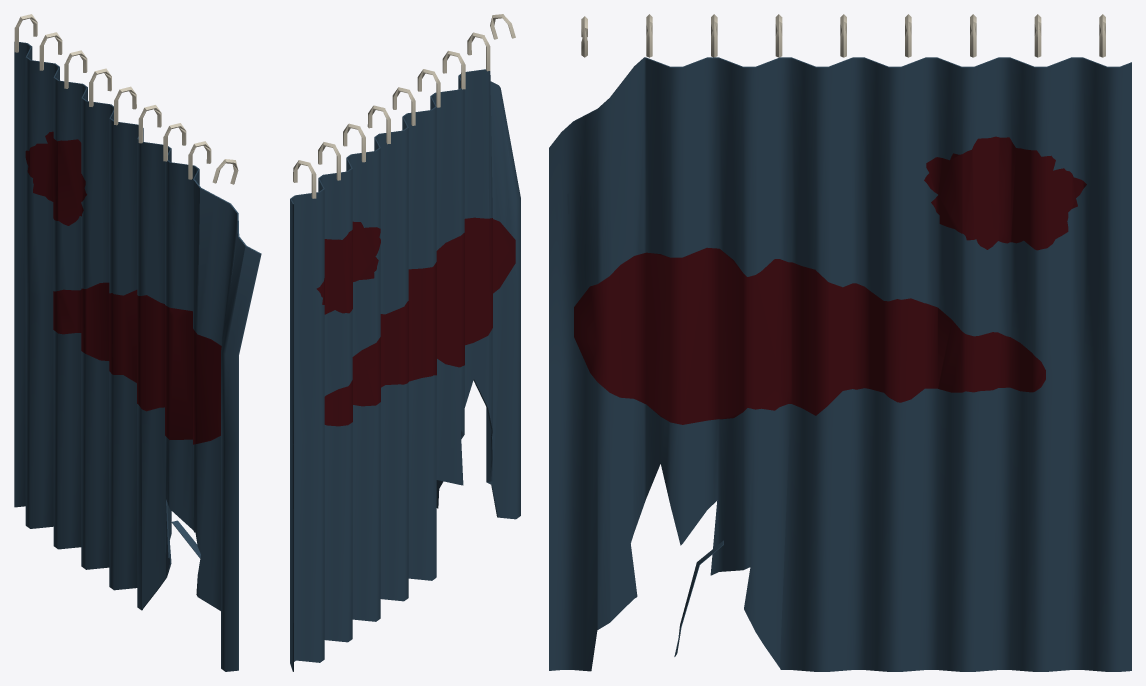
File: curtain_panel.glb
The picture shows the model from 3 angles, left to right: view 1: azimuth 30°, elevation 25°; view 2: azimuth 150°, elevation 25°; view 3: azimuth 270°, elevation 25°; orthographic projection. The views are drawn at different scales.
Parts seen in each view (by area): view 1: Outbreak_Recovery_Curtain_PartClosed_Left_Static; view 2: Outbreak_Recovery_Curtain_PartClosed_Left_Static; view 3: Outbreak_Recovery_Curtain_PartClosed_Left_Static.
Boxes of the visible parts, x1=… form: Outbreak_Recovery_Curtain_PartClosed_Left_Static: x1=14, y1=14, x2=261, y2=671; Outbreak_Recovery_Curtain_PartClosed_Left_Static: x1=290, y1=14, x2=520, y2=671; Outbreak_Recovery_Curtain_PartClosed_Left_Static: x1=549, y1=14, x2=1131, y2=671.
Bounding box in the file's own units: 0.2187 × 2.18 × 1.75.
